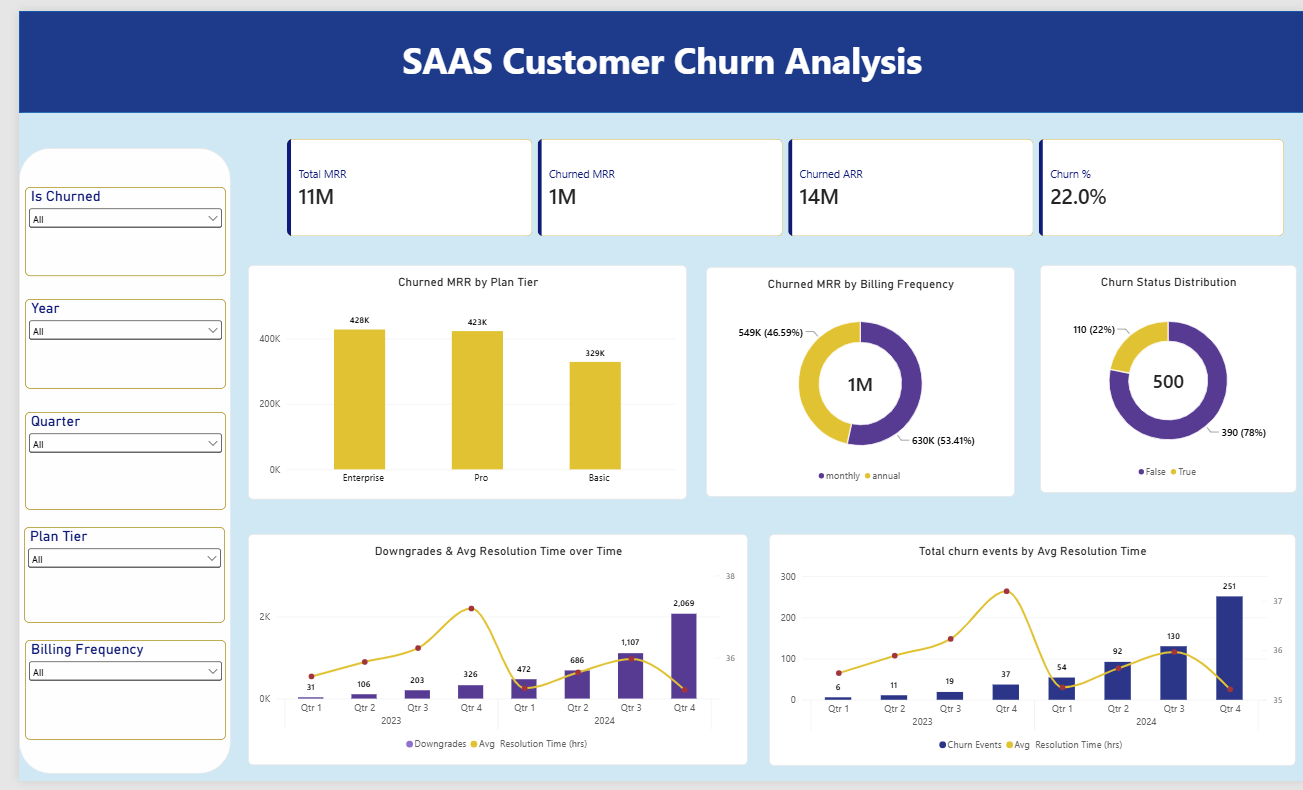

This screenshot's page, from the dashboard's own definition file:
{"tool":"powerbi","page":{"name":"Churn Overview","canvas":[1920,1150],"ordinal":0},"visuals":[{"type":"cardVisual","fields":{"Data":["ravenstack_accounts.Total MRR","Measuress.Churned Mrr","Measuress.Churned ARR","Measuress.Churn %"]},"box":[400,190.7,1489.3,145.3],"z":0},{"type":"columnChart","title":"Churned MRR by Plan Tier","fields":{"Category":["ravenstack_accounts.plan_tier"],"Y":["Measuress.Churned Mrr"]},"box":[341.1,378.6,655.4,350],"z":1000},{"type":"donutChart","title":"Churned MRR by Billing Frequency","fields":{"Category":["ravenstack_subscriptions.billing_frequency"],"Y":["Measuress.Churned Mrr"]},"box":[1025,382.1,460.7,342.9],"z":2000},{"type":"donutChart","title":"Churn Status Distribution","fields":{"Category":["ravenstack_accounts.churn_flag"],"Y":["Count(ravenstack_accounts.account_id)"]},"box":[1524,378.7,382.7,340],"z":3000},{"type":"lineClusteredColumnComboChart","title":"Total churn events by Avg Resolution Time","fields":{"Category":["Calendar.Date.Variation.Date Hierarchy.Year","Calendar.Date.Variation.Date Hierarchy.Quarter"],"Y":["CountNonNull(ravenstack_churn_events.churn_event_id)"],"Y2":["Avg(ravenstack_support_tickets.resolution_time_hours)"]},"box":[1119.6,780.4,785.7,346.4],"z":4000},{"type":"shape","box":[0,204.9,316.1,933.9],"z":5000},{"type":"lineClusteredColumnComboChart","title":"Downgrades &  Avg  Resolution Time over Time","fields":{"Category":["Calendar.Date.Variation.Date Hierarchy.Year","Calendar.Date.Variation.Date Hierarchy.Quarter"],"Y":["CountNonNull(ravenstack_subscriptions.downgrade_flag)"],"Y2":["Avg(ravenstack_support_tickets.resolution_time_hours)"]},"box":[340.5,779.7,746.4,344.6],"z":6000},{"type":"shape","box":[0,0,1921.2,151.9],"z":7000},{"type":"textbox","box":[564.3,35.8,791.4,300],"z":8000},{"type":"slicer","title":"ioiiio","fields":{"Values":["ravenstack_accounts.churn_flag"]},"box":[7.6,425,300,102.2],"z":9000},{"type":"slicer","title":"ioiiio","fields":{"Values":["Calendar.Date.Variation.Date Hierarchy.Year"]},"box":[7.6,563,300,108.7],"z":10000},{"type":"slicer","title":"ioiiio","fields":{"Values":["Calendar.Date.Variation.Date Hierarchy.Quarter"]},"box":[7.6,702.2,300,106.5],"z":11000},{"type":"slicer","title":"ioiiio","fields":{"Values":["ravenstack_accounts.plan_tier"]},"box":[7.6,843.5,300,108.7],"z":12000},{"type":"slicer","title":"ioiiio","fields":{"Values":["ravenstack_subscriptions.billing_frequency"]},"box":[8.7,983.7,300,98.9],"z":13000},{"type":"pageNavigator","box":[18.5,233.7,278.3,148.9],"z":13001}]}

Visuals, with their boxes in screenshot pixels (x1, y1, x2, y2), scaled from the page's 1920x1150 canvas onto the 1303x790 screenshot:
cardVisual - ravenstack_accounts.Total MRR x Measuress.Churned Mrr: [left=271, top=131, right=1282, bottom=231]
"Churned MRR by Plan Tier" columnChart: [left=231, top=260, right=676, bottom=501]
"Churned MRR by Billing Frequency" donutChart: [left=696, top=262, right=1008, bottom=498]
"Churn Status Distribution" donutChart: [left=1034, top=260, right=1294, bottom=494]
"Total churn events by Avg Resolution Time" lineClusteredColumnComboChart: [left=760, top=536, right=1293, bottom=774]
shape: [left=0, top=141, right=215, bottom=782]
"Downgrades &  Avg  Resolution Time over Time" lineClusteredColumnComboChart: [left=231, top=536, right=738, bottom=772]
shape: [left=0, top=0, right=1302, bottom=104]
textbox: [left=383, top=25, right=920, bottom=231]
"ioiiio" slicer: [left=5, top=292, right=209, bottom=362]
"ioiiio" slicer: [left=5, top=387, right=209, bottom=461]
"ioiiio" slicer: [left=5, top=482, right=209, bottom=556]
"ioiiio" slicer: [left=5, top=579, right=209, bottom=654]
"ioiiio" slicer: [left=6, top=676, right=209, bottom=744]
pageNavigator: [left=13, top=161, right=201, bottom=263]
